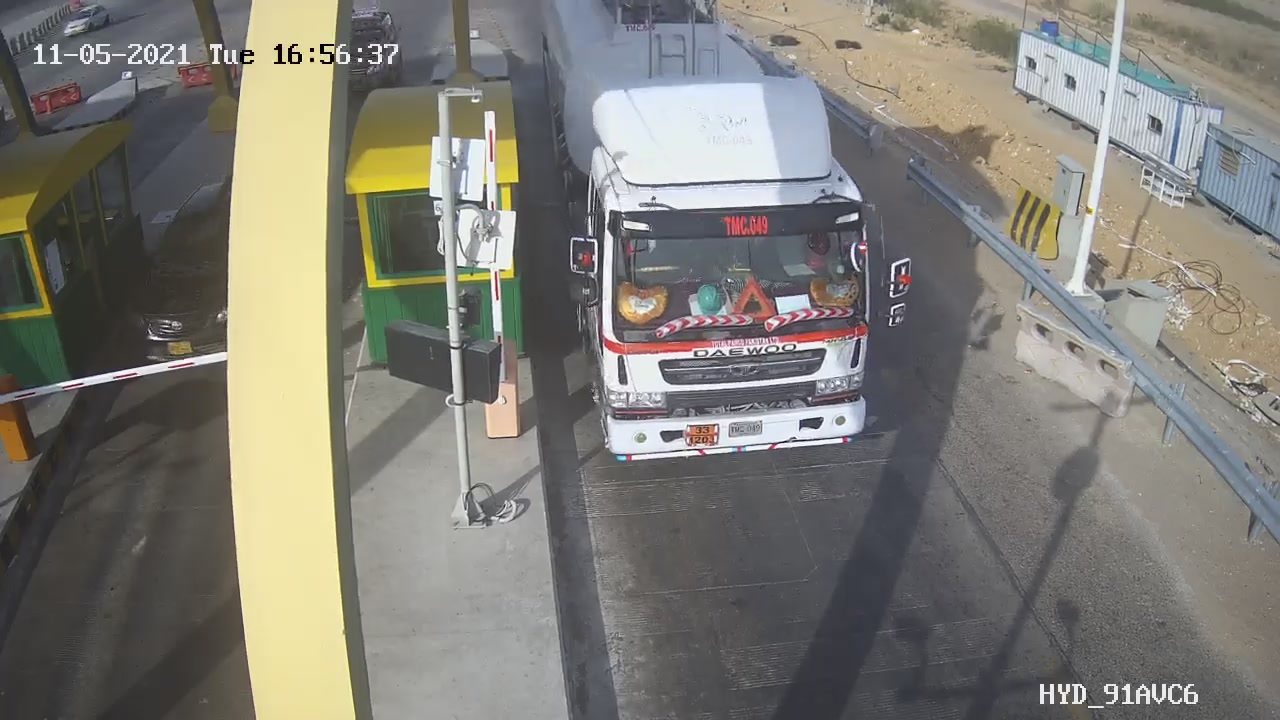F6: (530, 1, 939, 470)
